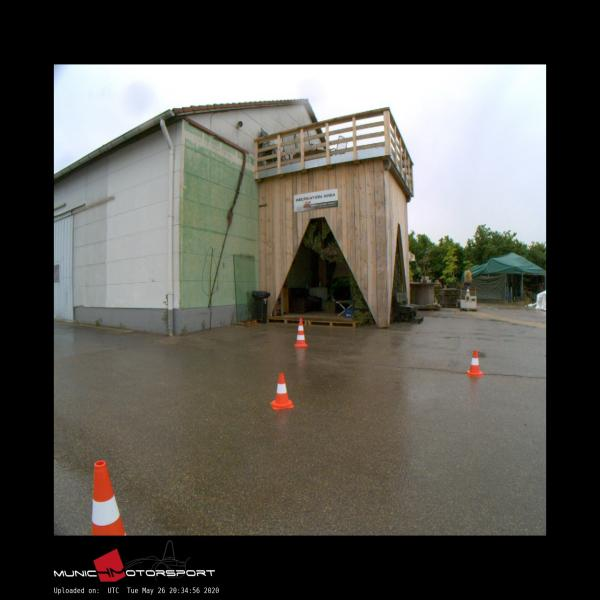large_orange_cone: (294, 317, 308, 346)
orange_cone: (270, 372, 293, 409), (466, 350, 482, 375)
